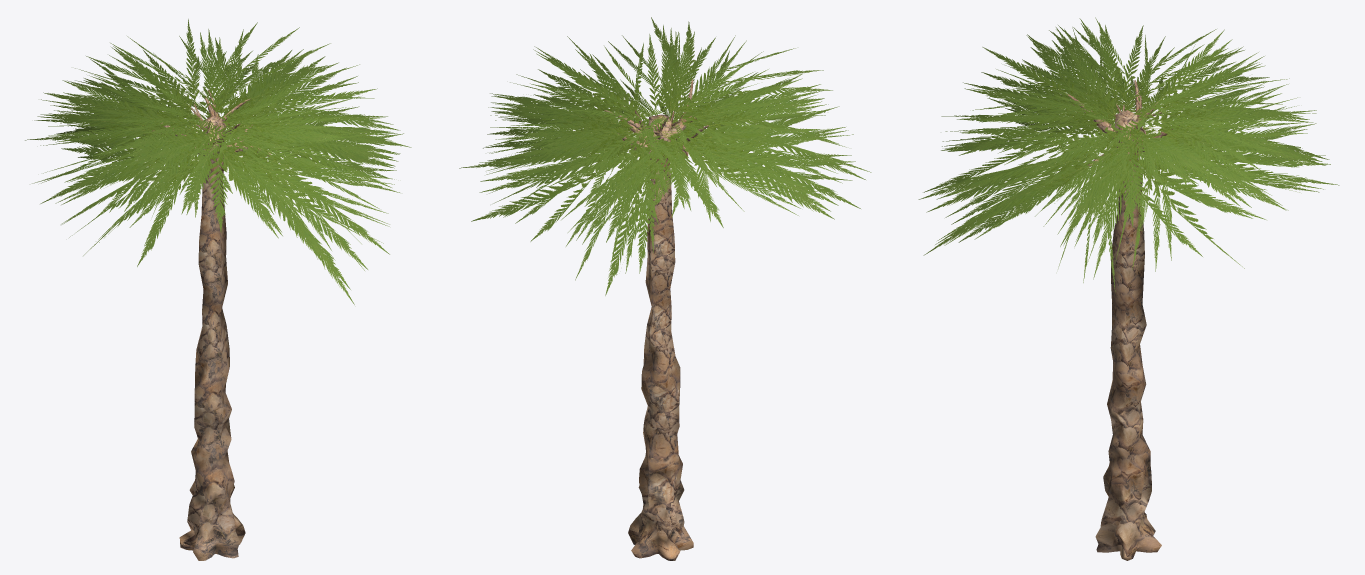
The model's file is Tree.fbx.
3 renders of one model, left to right at view 1: azimuth 30°, elevation 25°; view 2: azimuth 150°, elevation 25°; view 3: azimuth 270°, elevation 25°, orthographic.
Parts seen in each view (by area): view 1: fern02_1, palm01_0; view 2: fern02_1, palm01_0; view 3: fern02_1, palm01_0.
Part boxes in pixels (left/top/right/bottom): fern02_1: left=25, top=19, right=411, bottom=304; palm01_0: left=152, top=90, right=271, bottom=560; fern02_1: left=459, top=17, right=871, bottom=295; palm01_0: left=604, top=79, right=713, bottom=560; fern02_1: left=918, top=17, right=1339, bottom=291; palm01_0: left=1067, top=80, right=1179, bottom=560.
Bounding box in the file's own units: 845 × 1094 × 874.
2 materials, 2 textured.
